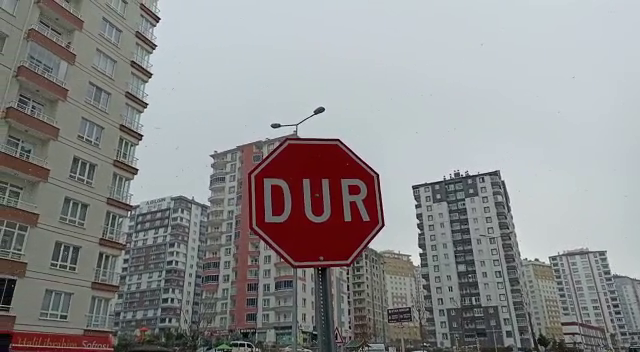stop: (245, 136, 390, 271)
